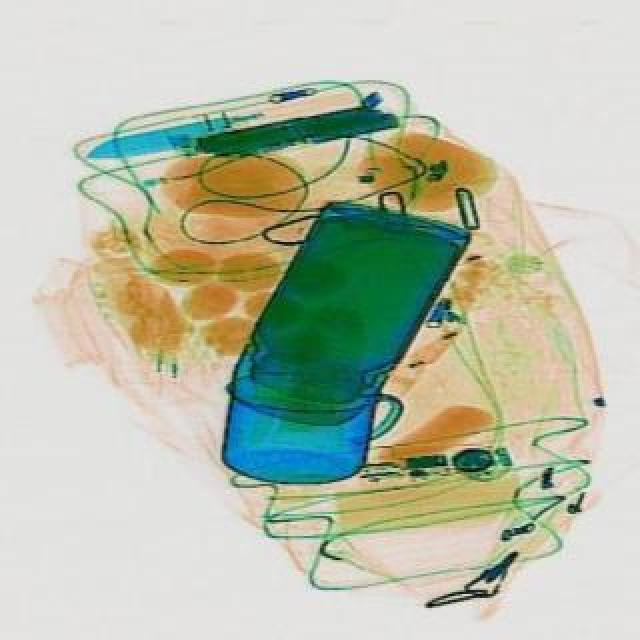knife: (86, 108, 272, 168)
